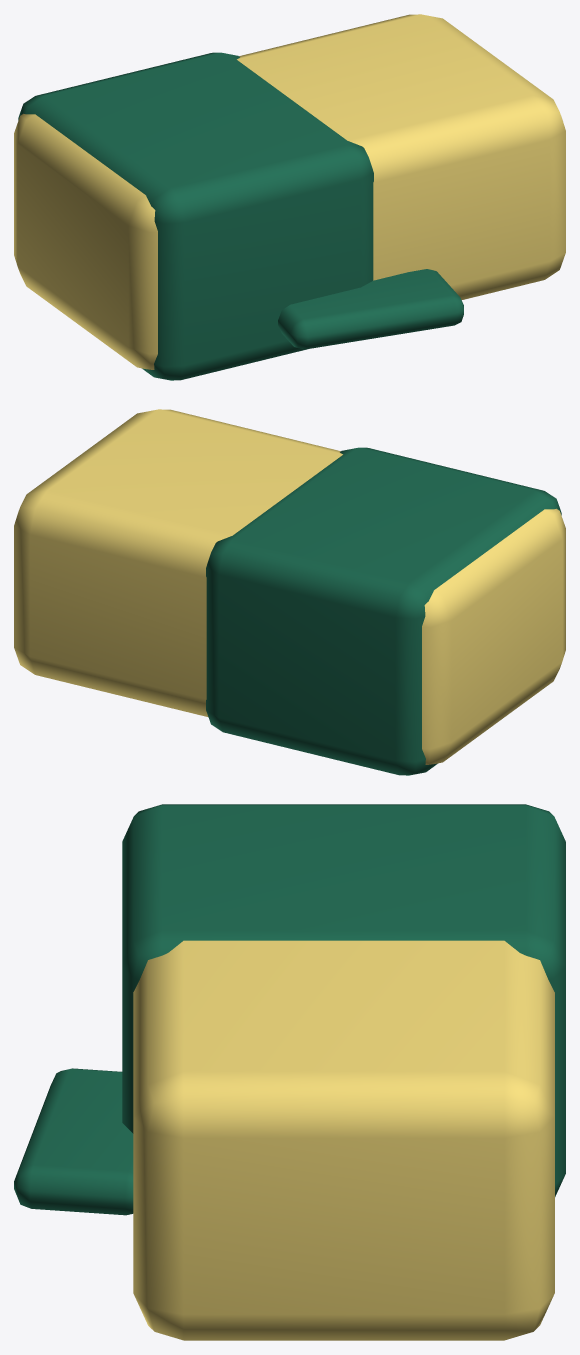
The model's file is butter.glb.
3 renders of one model, top to bottom at view 1: azimuth 30°, elevation 25°; view 2: azimuth 150°, elevation 25°; view 3: azimuth 270°, elevation 25°, orthographic. The views are drawn at different scales.
Visible parts, largest first — view 1: butter; view 2: butter; view 3: butter.
Part boxes in pixels (x1,y1,x2,y2): butter: (14, 14, 565, 380); butter: (14, 409, 565, 775); butter: (14, 804, 565, 1340).
Size of the model in its own units: 0.62 by 0.263 by 0.4714.
